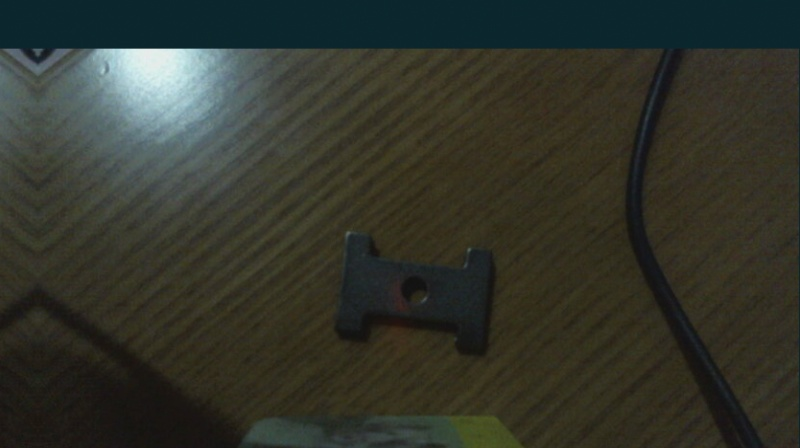O002: (336, 229, 496, 356)
